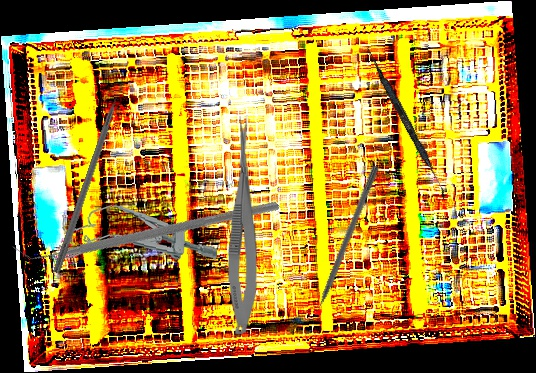Chopper: (10, 92, 282, 361)
Hook Surgical: (52, 80, 128, 275)
Micro Scissor: (224, 115, 260, 334)
Pusher: (307, 164, 380, 327)
Spatula Surgical: (361, 46, 452, 199)
Speculum: (57, 200, 221, 272)
